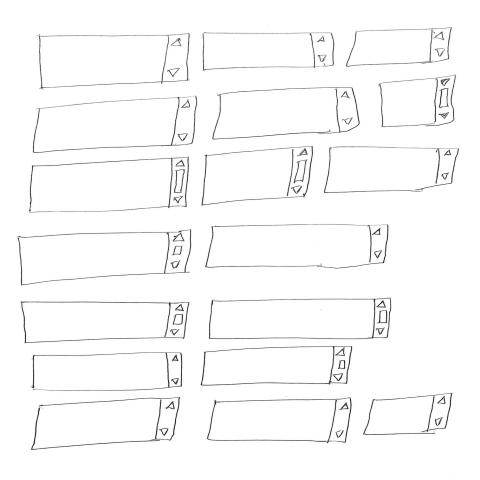Textarea: (31, 95, 199, 155), (17, 231, 194, 287), (27, 156, 191, 214), (204, 223, 390, 270), (39, 34, 191, 90), (29, 396, 182, 451), (212, 87, 361, 142), (209, 297, 394, 341), (19, 301, 192, 344), (201, 146, 316, 207), (207, 398, 352, 445), (323, 146, 460, 194), (200, 345, 354, 387), (32, 352, 184, 393), (203, 32, 337, 71), (344, 26, 454, 68), (377, 74, 458, 128), (364, 392, 455, 436)
